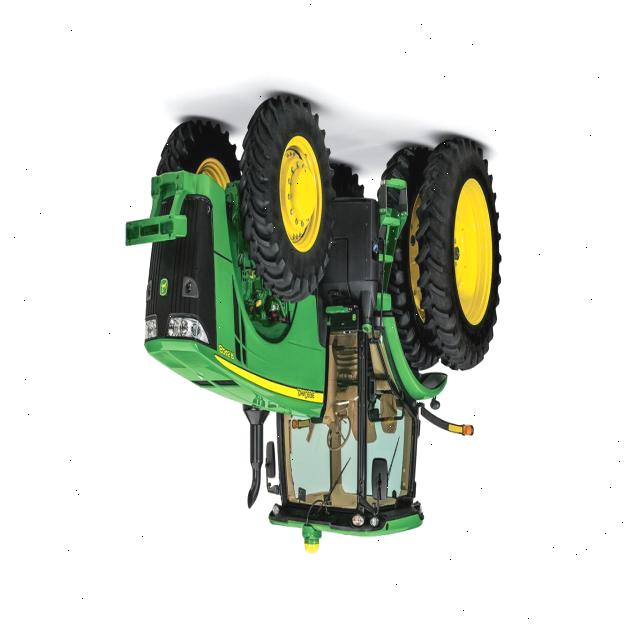Tratores - v5 YOLO V8L 2024-11-13: (131, 111, 505, 556)
